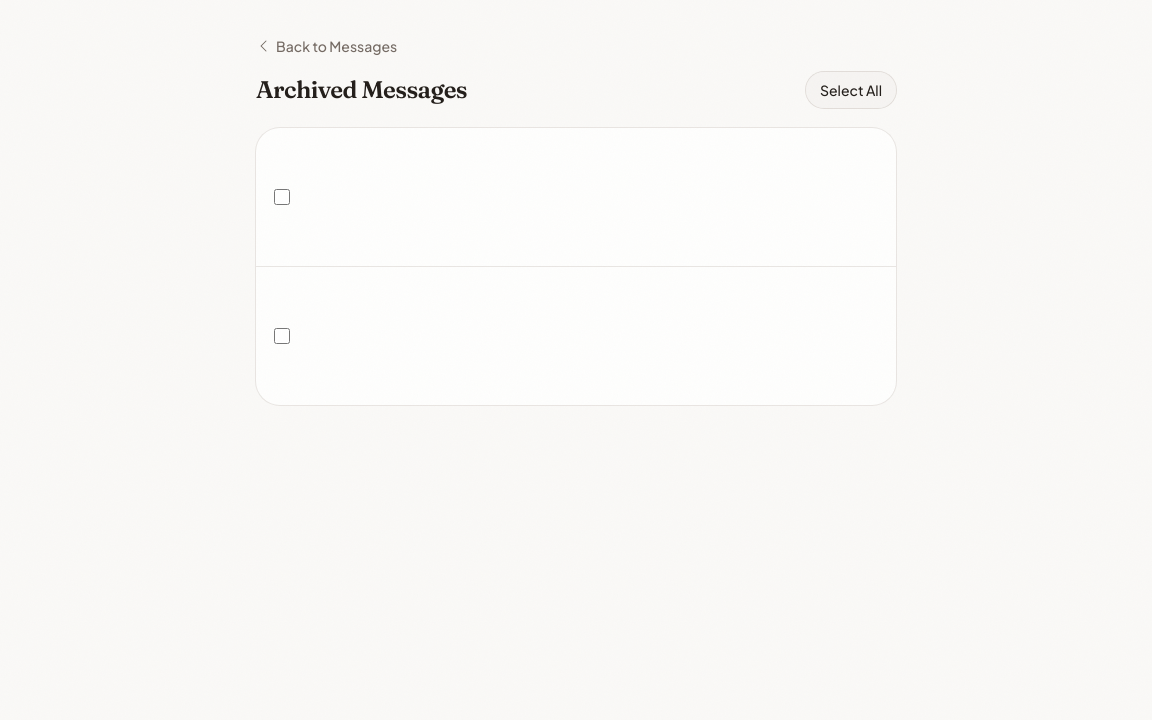
MessagesPage - archived view › closes the confirm dialog on Escape without deleting
Click the button "Select All" at (851, 90), box [806,72,896,108]
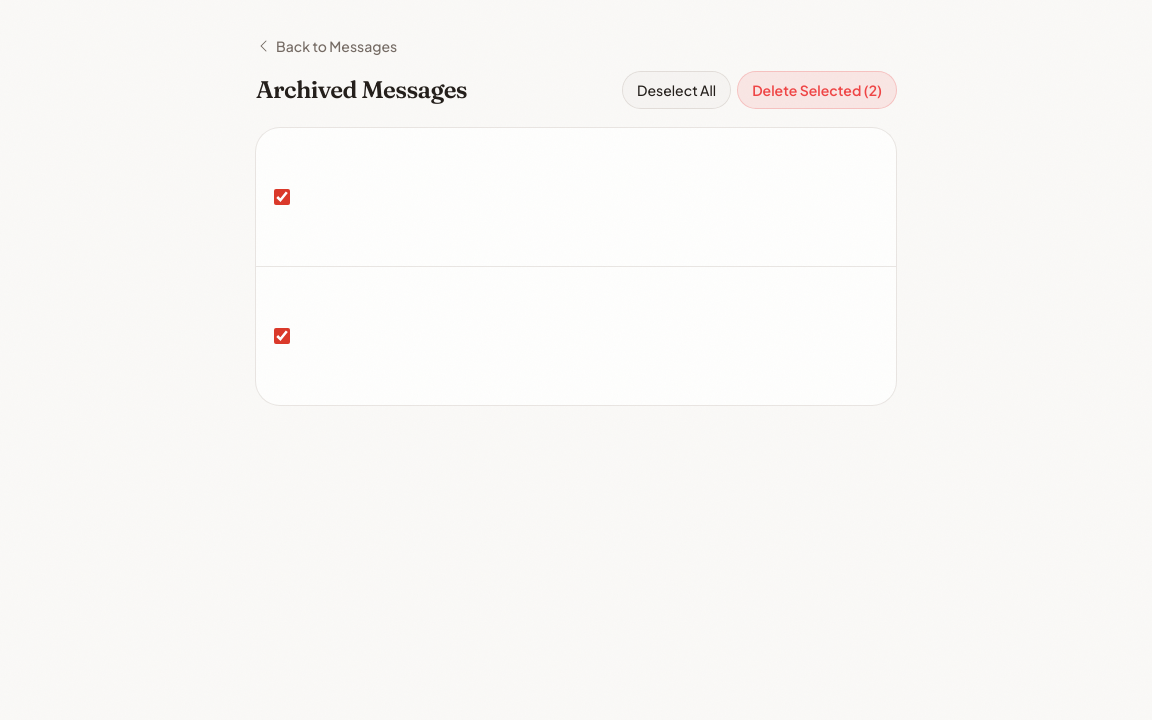
Click the button "Delete Selected (2)" at (817, 90), box [738,72,896,108]
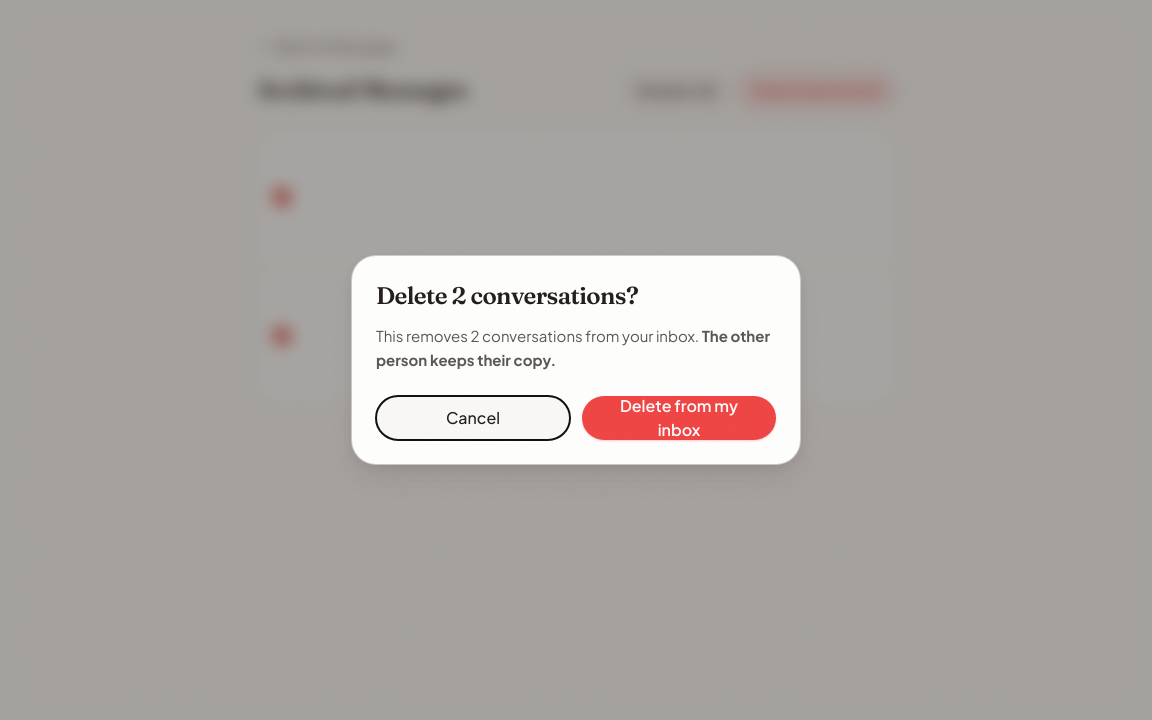
Check: the dialog is shown
Press Escape
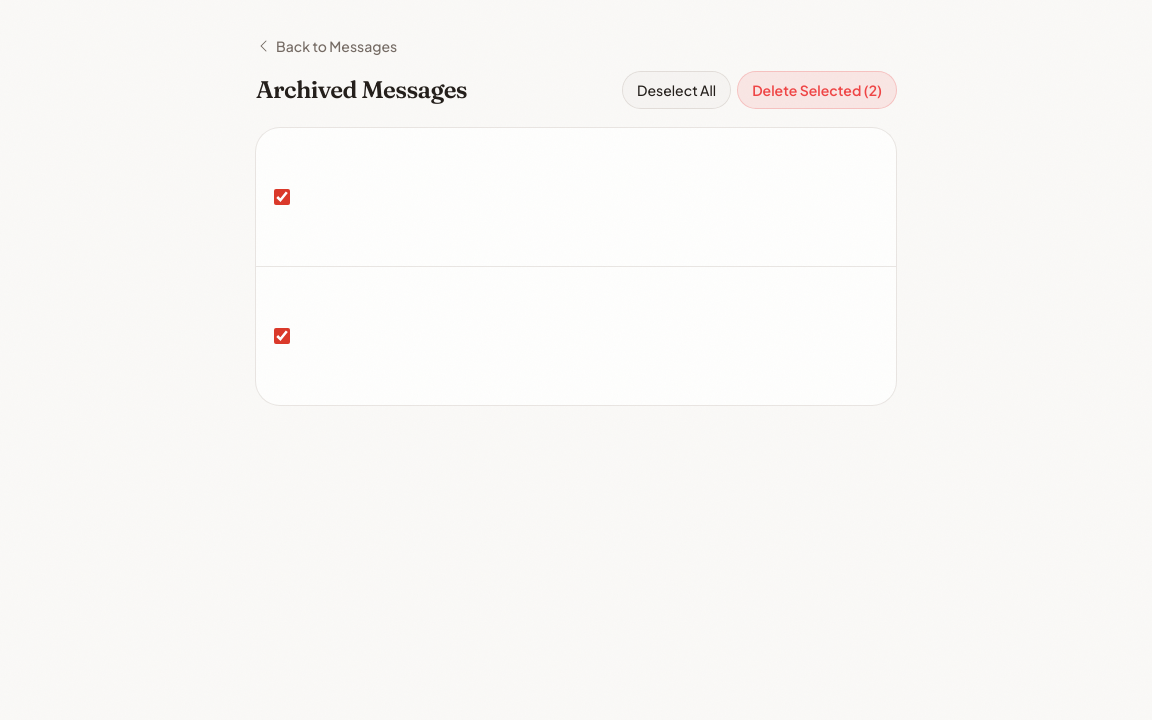
Check: the dialog is gone
